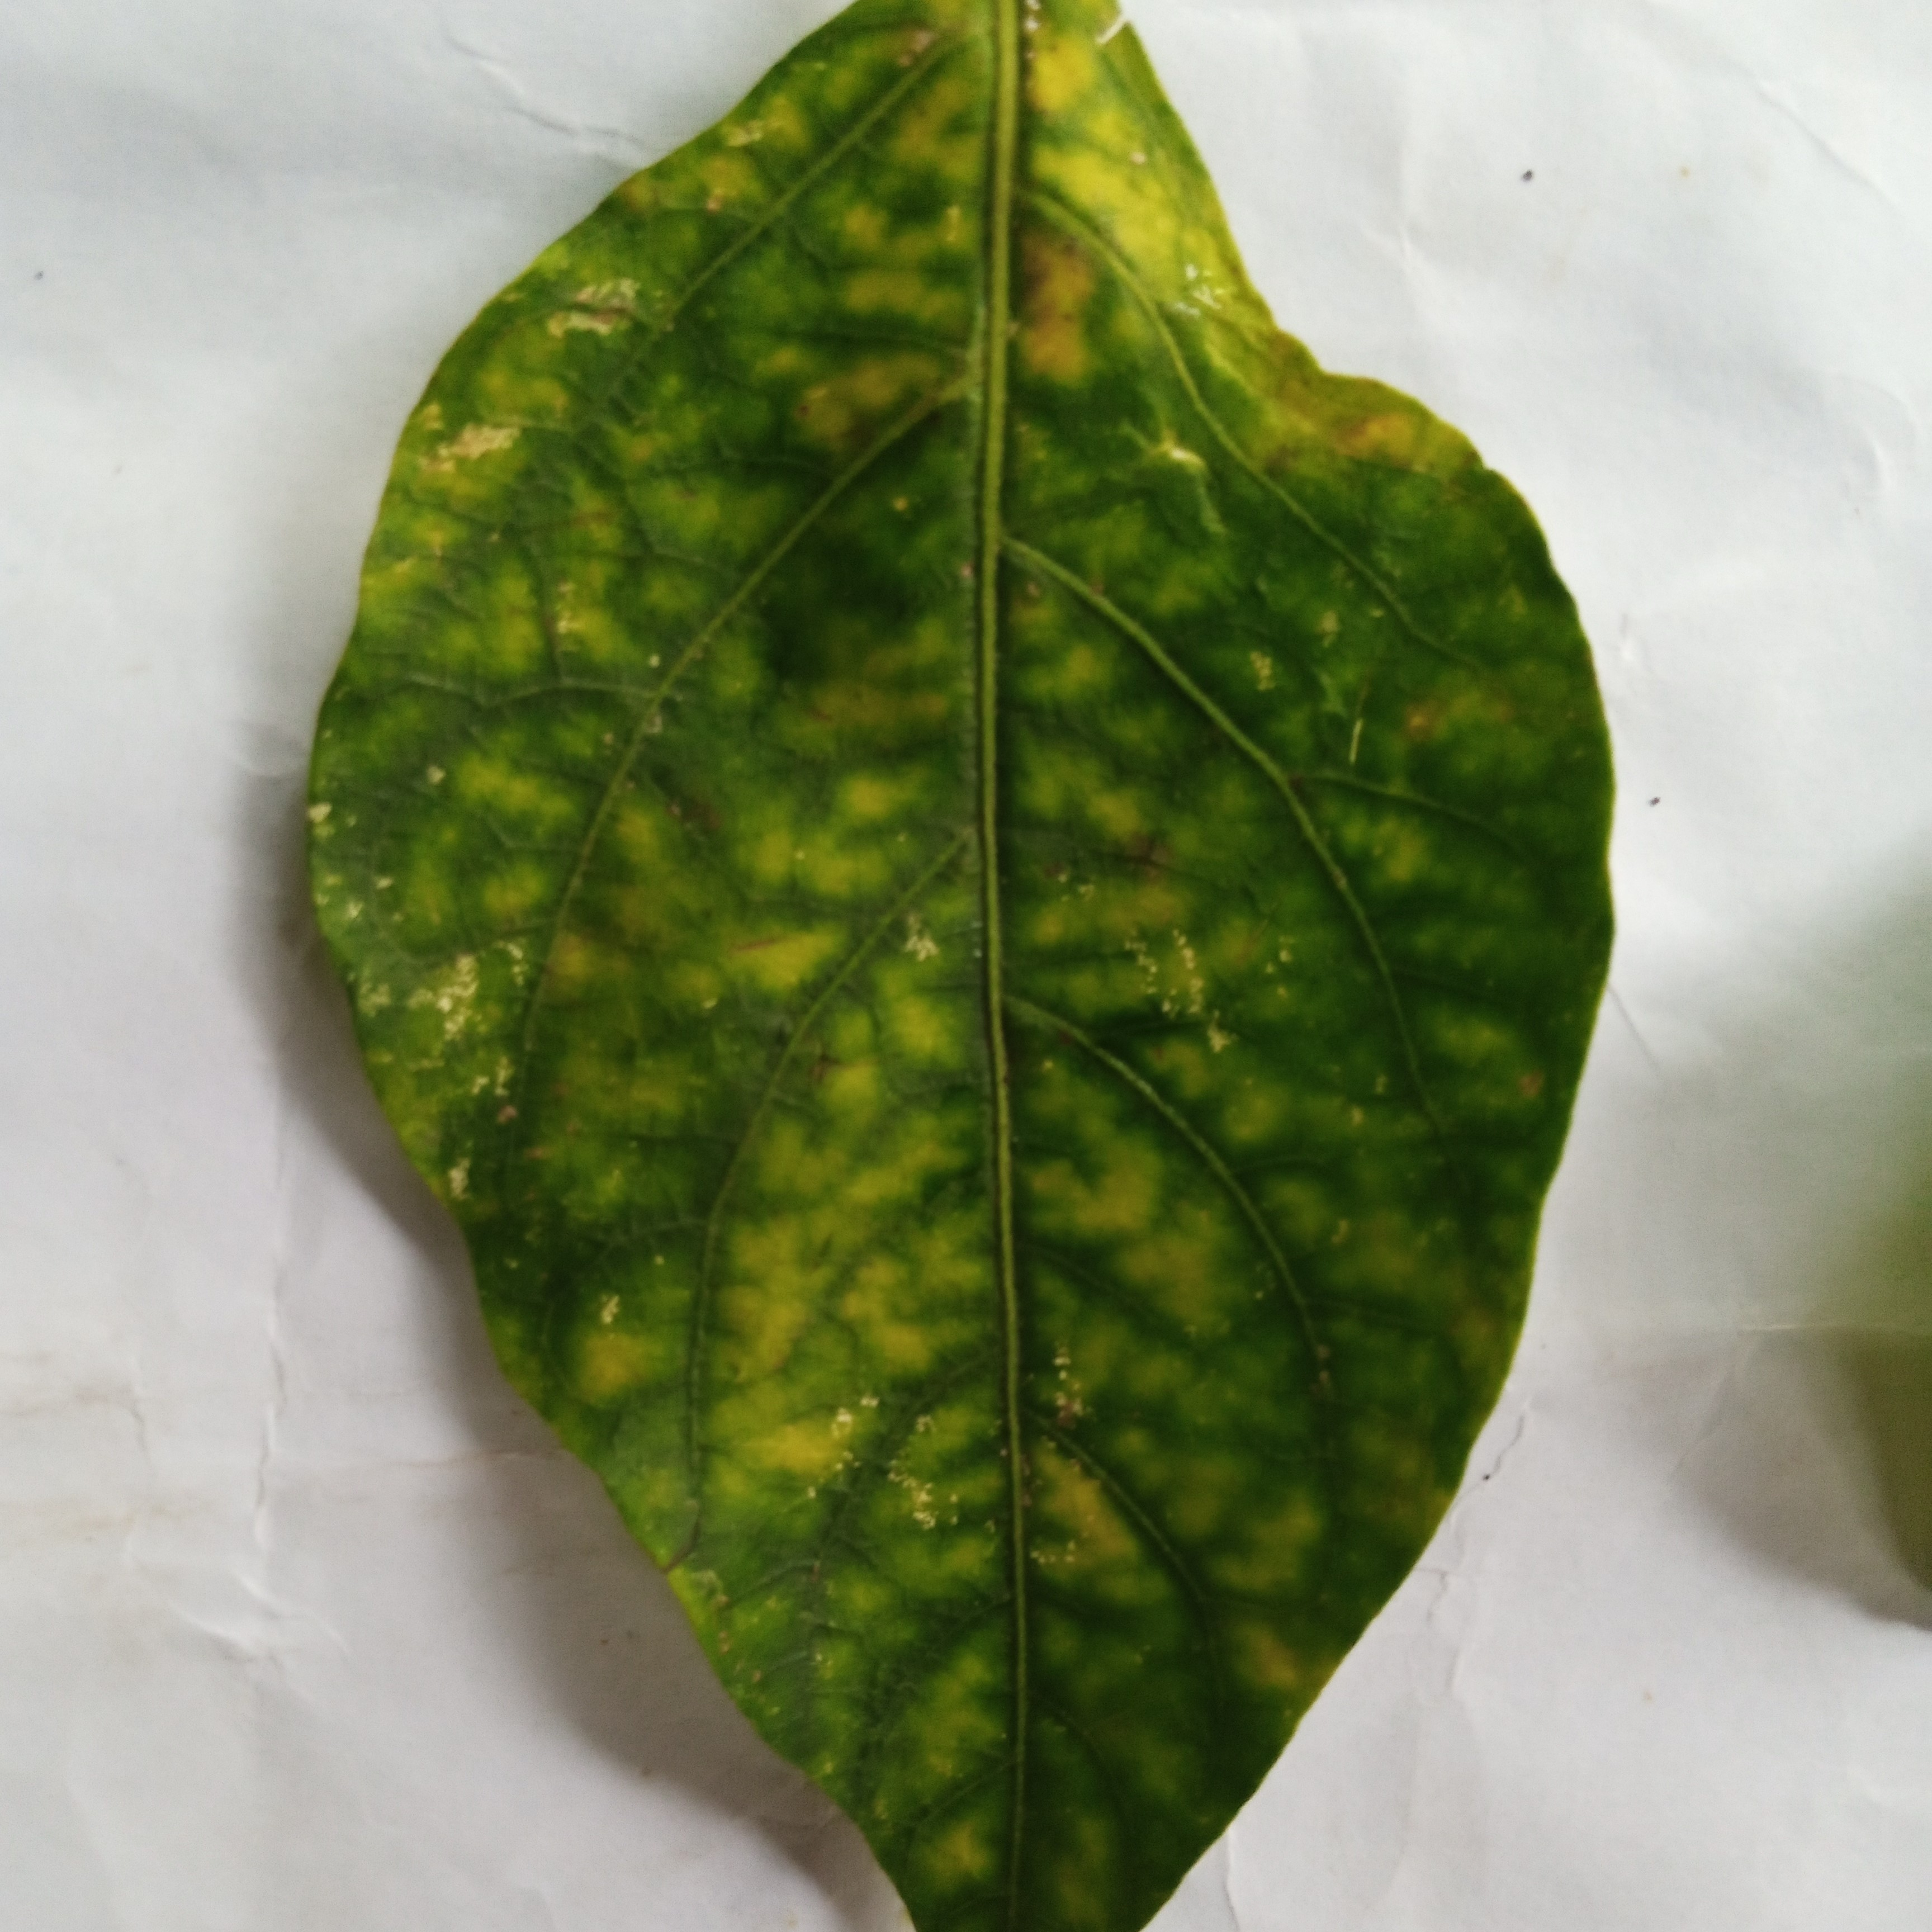Leaf: (195, 27, 1681, 1932)
